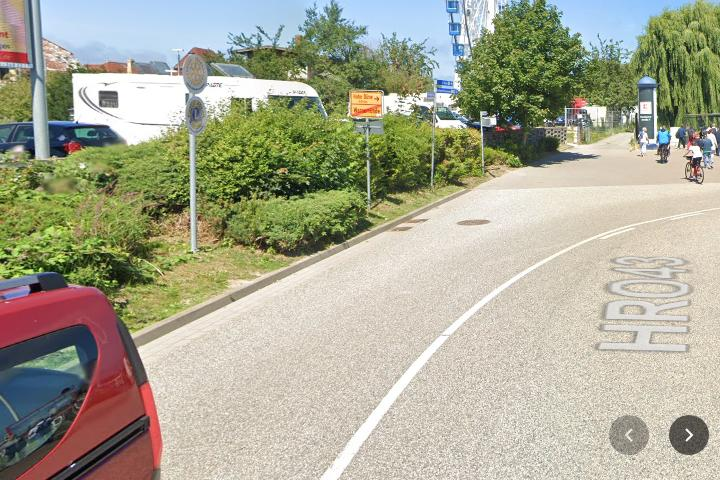google_maps: (669, 414, 710, 456), (609, 415, 650, 455)
